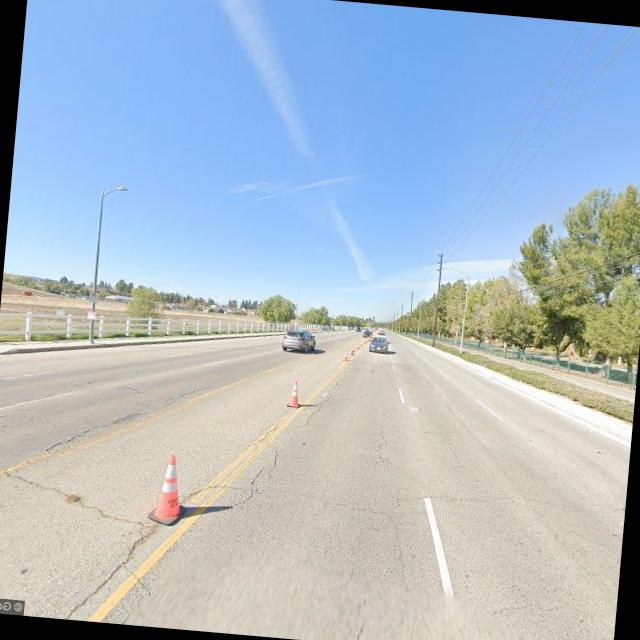crack: (70, 425, 281, 627), (268, 468, 551, 526), (0, 473, 153, 533), (302, 368, 348, 431), (383, 508, 412, 572), (369, 405, 396, 468)
